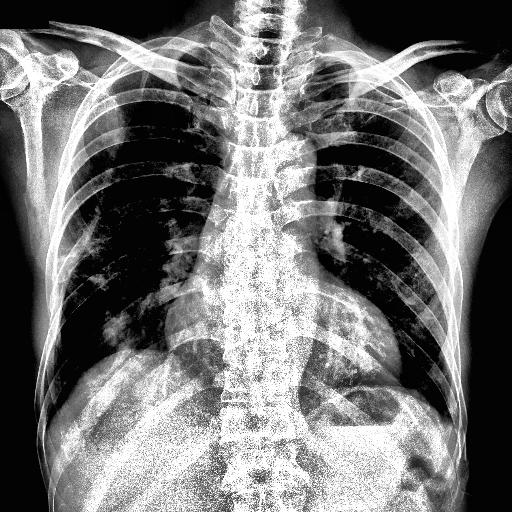10- Pleural effusion: (436, 396, 462, 440)
11- Pleural thickening: (436, 396, 462, 440)
13- Pulmonary fibrosis: (54, 228, 136, 352), (54, 228, 118, 288), (94, 88, 124, 156)
3- Cardiomegaly: (162, 288, 410, 386), (163, 308, 406, 388), (167, 310, 406, 376)
6- Infiltration: (56, 231, 111, 297), (98, 311, 148, 355)
7- Lung Opacity: (97, 300, 139, 355)
9- Other lesion: (94, 88, 124, 156), (84, 206, 122, 252), (137, 196, 161, 215)
